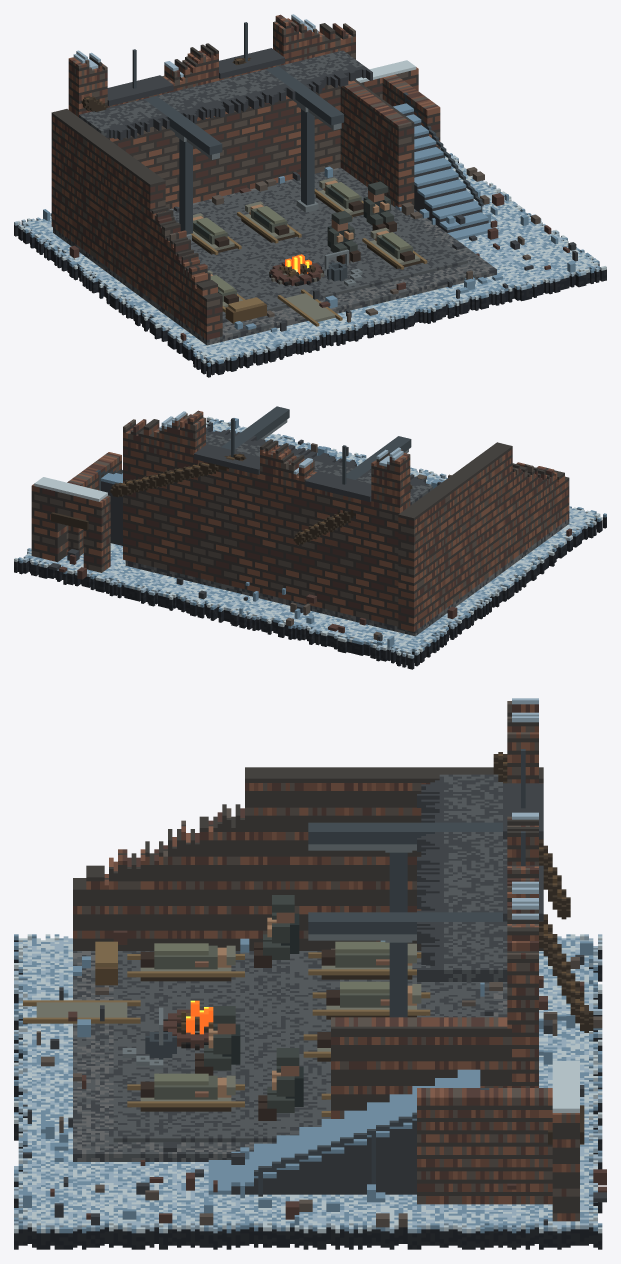
The model's file is factory-cellar-ward.glb.
3 renders of one model, top to bottom at view 1: azimuth 30°, elevation 25°; view 2: azimuth 150°, elevation 25°; view 3: azimuth 270°, elevation 25°, orthographic. The views are drawn at different scales.
Visible parts, largest first — view 1: factory_floor, left_cellar_wall, frozen_exterior, rear_cellar_wall, detachable_roof_remnant, sectioned_ground, right_wall_remnant, upper_factory_ruin, exit_stair, scattered_rubble, factory_columns, roof_girders (+17 smaller); view 2: rear_cellar_wall, left_cellar_wall, frozen_exterior, upper_factory_ruin, sectioned_ground, distant_cellar_threshold, factory_floor, upper_fallen_beam, window_sills, detachable_roof_remnant, scattered_rubble, roof_girders (+4 smaller); view 3: frozen_exterior, left_cellar_wall, factory_floor, detachable_roof_remnant, outside_ruins, right_wall_remnant, exit_stair, sectioned_ground, scattered_rubble, roof_girders, upper_factory_ruin, upper_fallen_beam (+18 smaller).
Boxes of the visible parts, <box> form: factory_floor: <box>53,167,496,345</box>; left_cellar_wall: <box>51,109,222,339</box>; frozen_exterior: <box>14,147,606,366</box>; rear_cellar_wall: <box>107,50,355,209</box>; detachable_roof_remnant: <box>79,50,372,140</box>; sectioned_ground: <box>14,161,606,377</box>; right_wall_remnant: <box>340,80,414,207</box>; upper_factory_ruin: <box>68,14,355,116</box>; exit_stair: <box>393,103,494,240</box>; scattered_rubble: <box>43,164,577,340</box>; factory_columns: <box>175,100,318,240</box>; roof_girders: <box>144,66,343,159</box>; rear_cellar_wall: <box>123,446,399,626</box>; left_cellar_wall: <box>398,442,569,631</box>; frozen_exterior: <box>14,416,606,658</box>; upper_factory_ruin: <box>123,410,410,513</box>; sectioned_ground: <box>14,420,606,669</box>; distant_cellar_threshold: <box>31,484,110,572</box>; factory_floor: <box>125,483,569,636</box>; upper_fallen_beam: <box>110,453,412,544</box>; window_sills: <box>194,444,371,501</box>; detachable_roof_remnant: <box>206,426,432,505</box>; scattered_rubble: <box>48,418,571,647</box>; roof_girders: <box>221,406,411,479</box>; frozen_exterior: <box>14,934,602,1233</box>; left_cellar_wall: <box>73,767,543,950</box>; factory_floor: <box>73,951,507,1161</box>; detachable_roof_remnant: <box>417,774,507,981</box>; outside_ruins: <box>417,1088,552,1204</box>; right_wall_remnant: <box>331,1017,511,1118</box>; exit_stair: <box>208,1069,480,1194</box>; sectioned_ground: <box>14,940,602,1249</box>; scattered_rubble: <box>23,930,606,1227</box>; roof_girders: <box>308,822,506,940</box>; upper_factory_ruin: <box>507,701,538,983</box>; upper_fallen_beam: <box>493,752,593,1032</box>.
Size of the model in its own units: 15.4 by 7 by 13.1.
